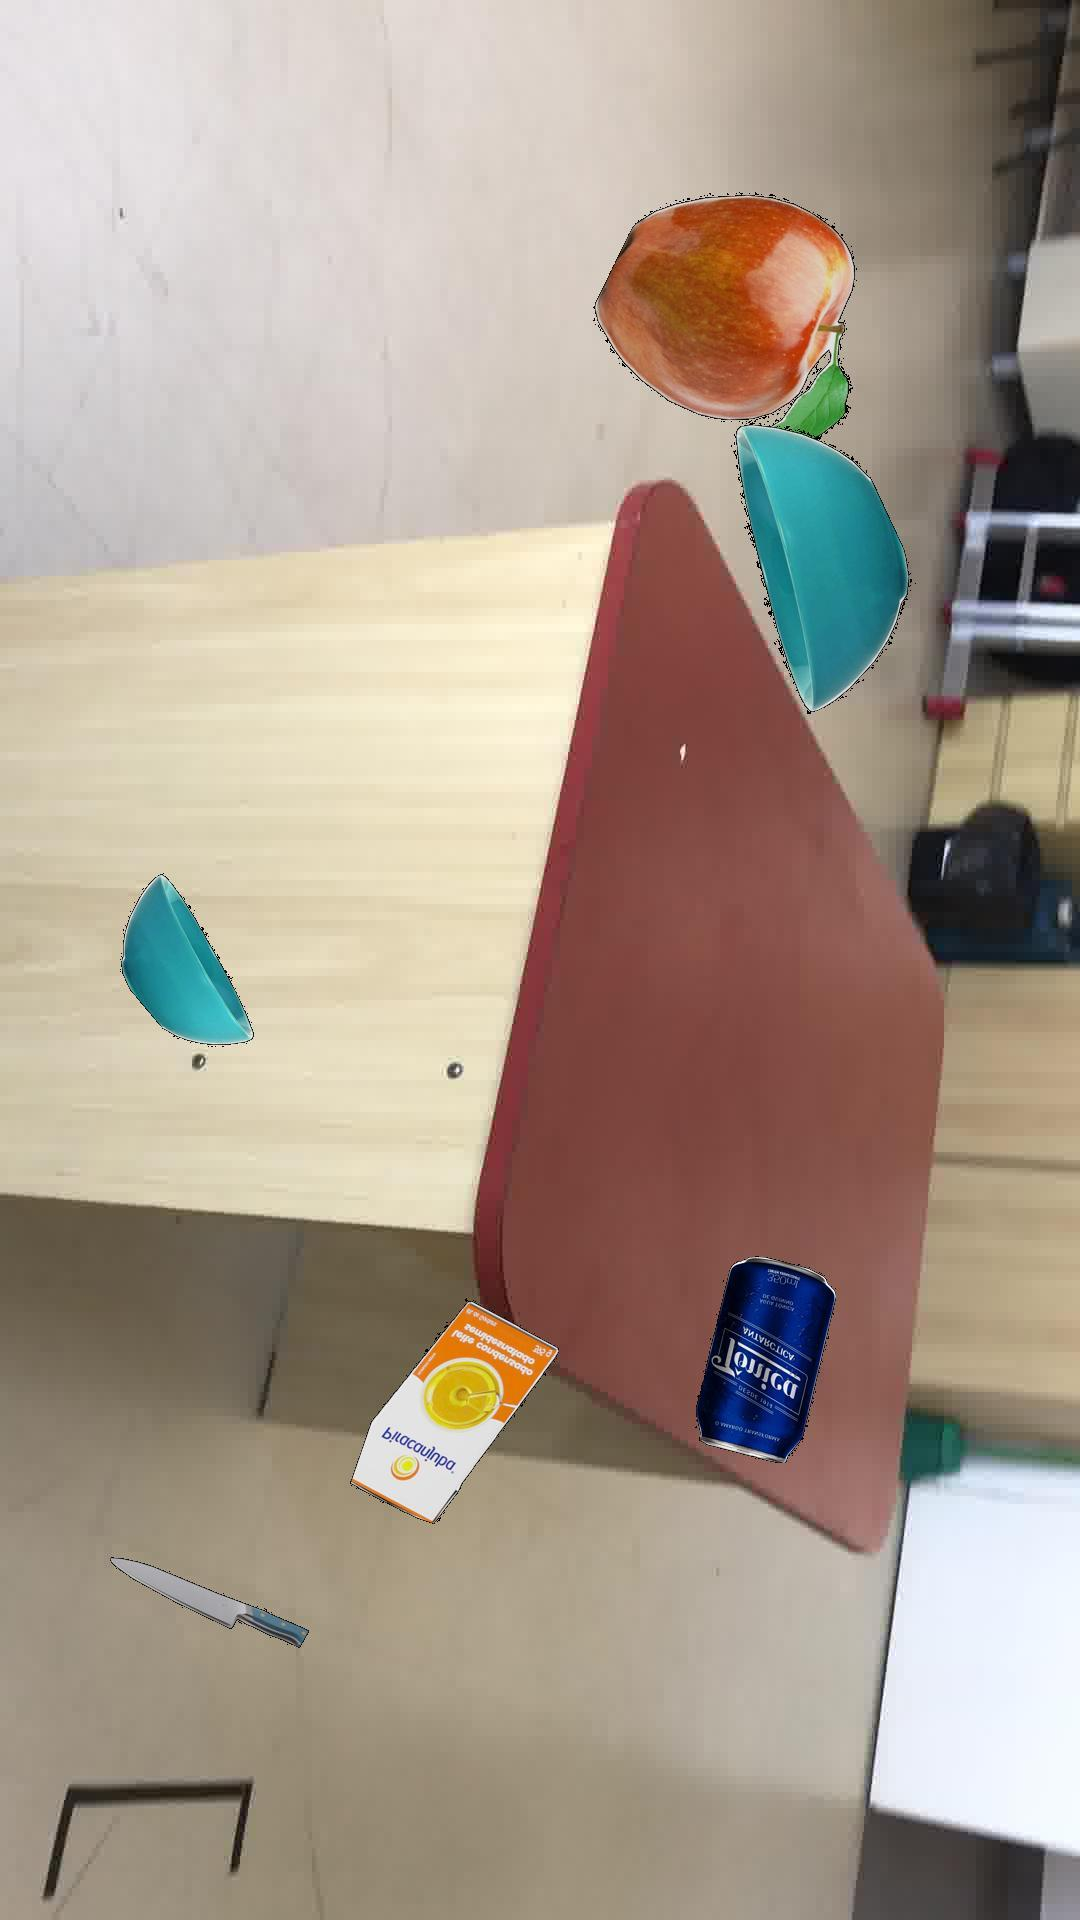apple: (592, 191, 853, 439)
bowl: (733, 421, 909, 712), (120, 873, 252, 1043)
knife: (108, 1556, 307, 1647)
tonic: (695, 1255, 835, 1461)
